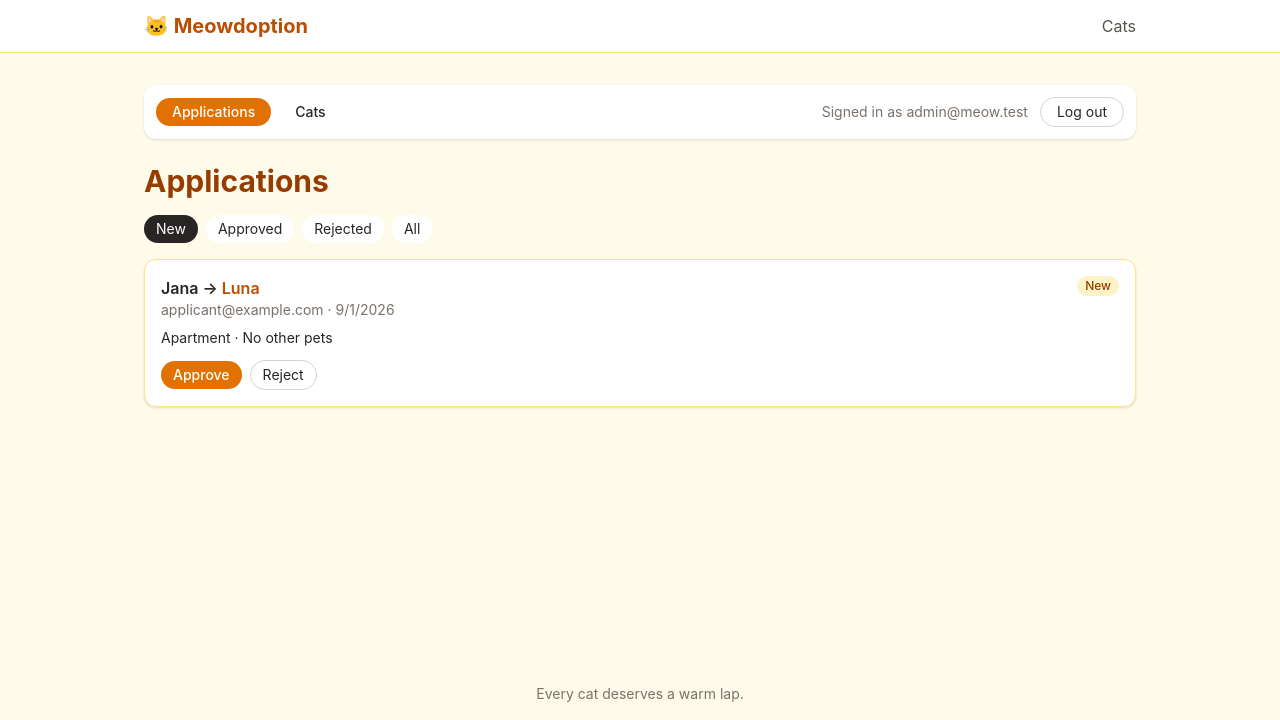
admin applications › can cancel an approval before confirming
Click the button "Approve" at (201, 375), box x1=161 y1=361 x2=242 y2=389
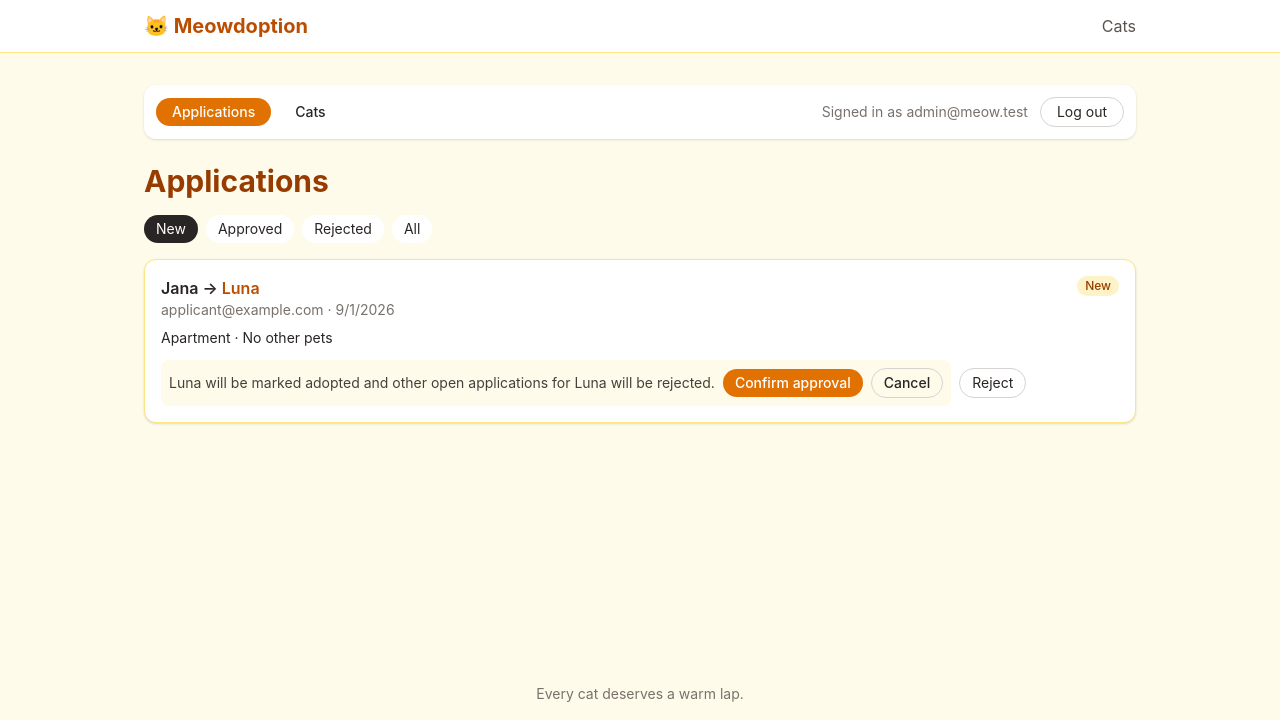
Click the button "Cancel" at (907, 383), box x1=871 y1=368 x2=943 y2=398
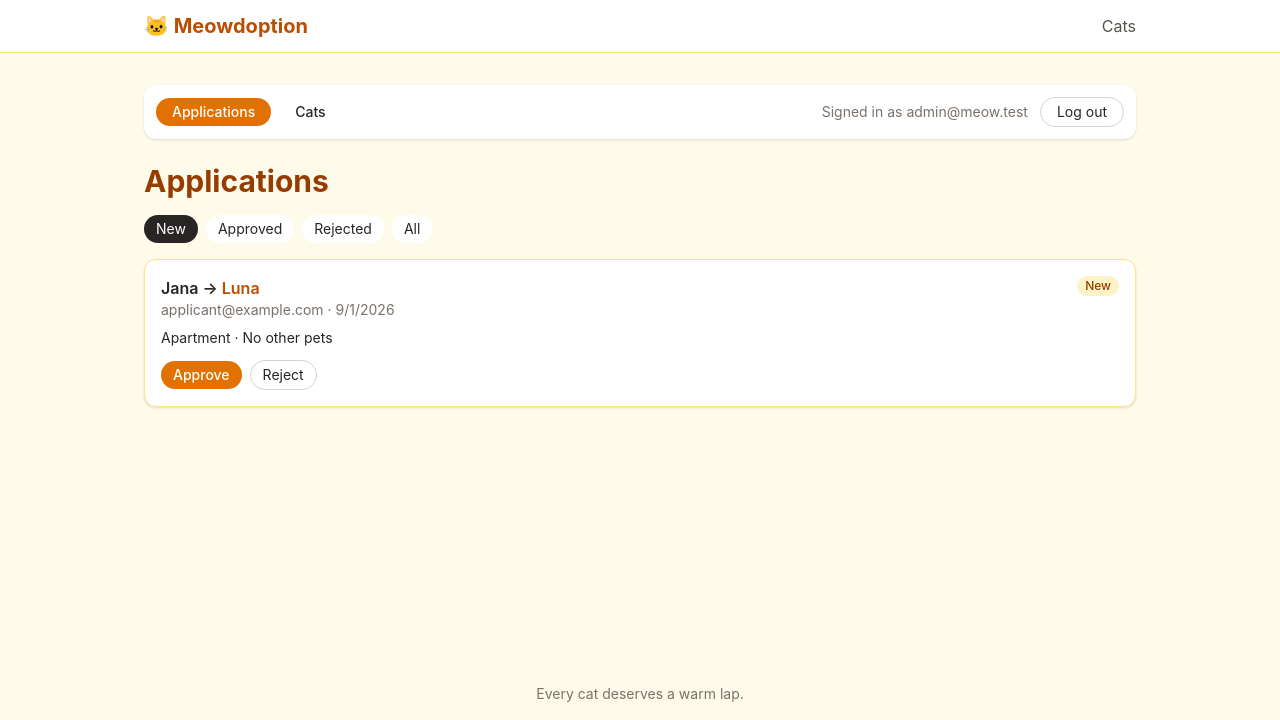
Expected: the button "Approve" is shown, x1=161 y1=361 x2=242 y2=389
